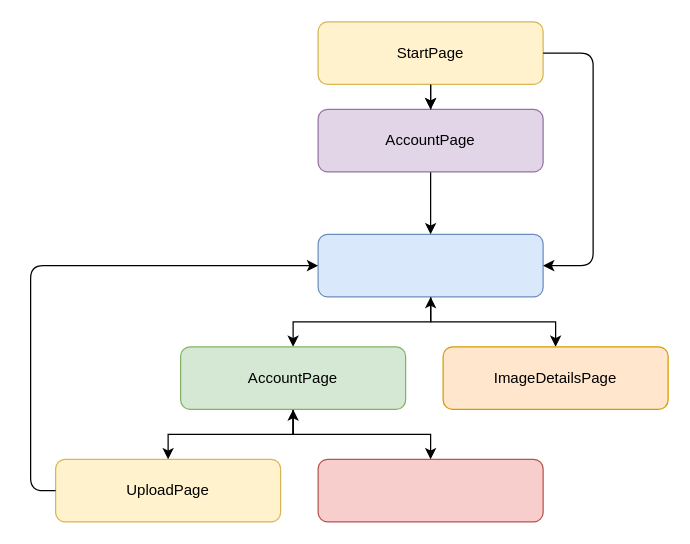
Some shapes in this 690 by 544 pixel diagram are drawn without their labels. The centre of each missing label's shape, as x and y in pixels:
FavoritePage: the point at 430,490
HomePage: the point at 430,265
